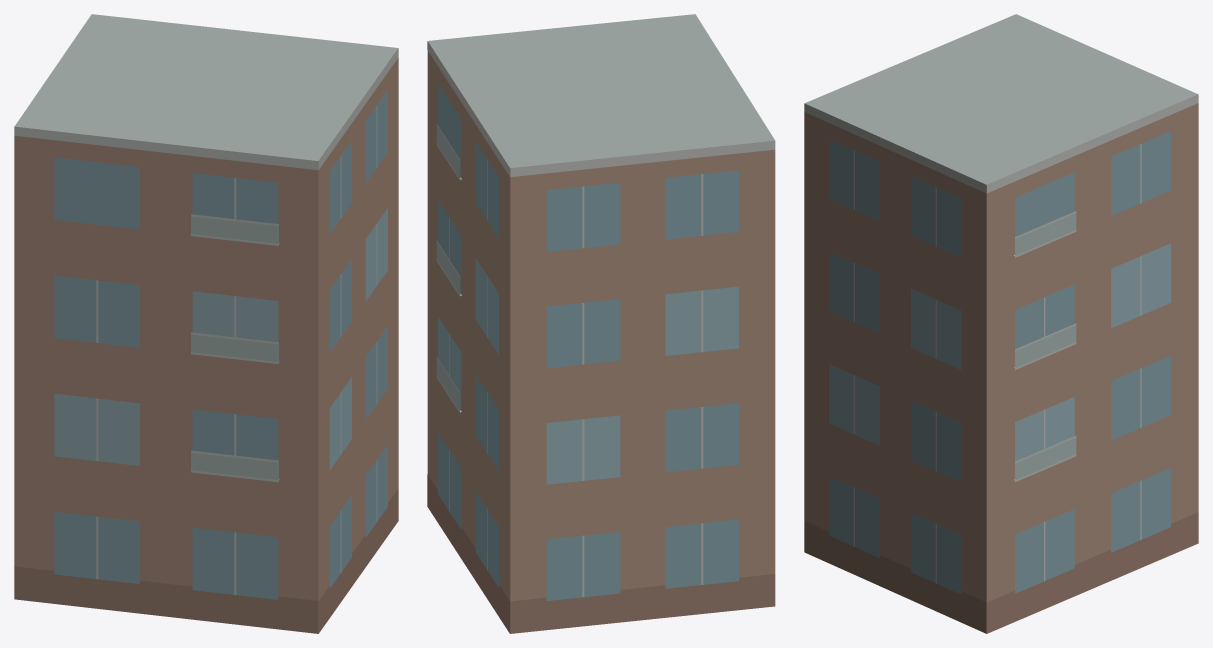
Rendered from survey-upis-32785952.glb.
3 views of the same model, side by side, from view 1: azimuth 30°, elevation 25°; view 2: azimuth 150°, elevation 25°; view 3: azimuth 270°, elevation 25° (orthographic). The views are drawn at different scales.
Parts seen in each view (by area): view 1: survey-upis-32785952.tmp; view 2: survey-upis-32785952.tmp; view 3: survey-upis-32785952.tmp.
Part boxes in pixels (x1,y1,x2,y2): survey-upis-32785952.tmp: (14,14,398,633); survey-upis-32785952.tmp: (427,14,775,633); survey-upis-32785952.tmp: (804,14,1198,633).
Bounding box in the file's own units: 10.37 × 12.69 × 10.1.
